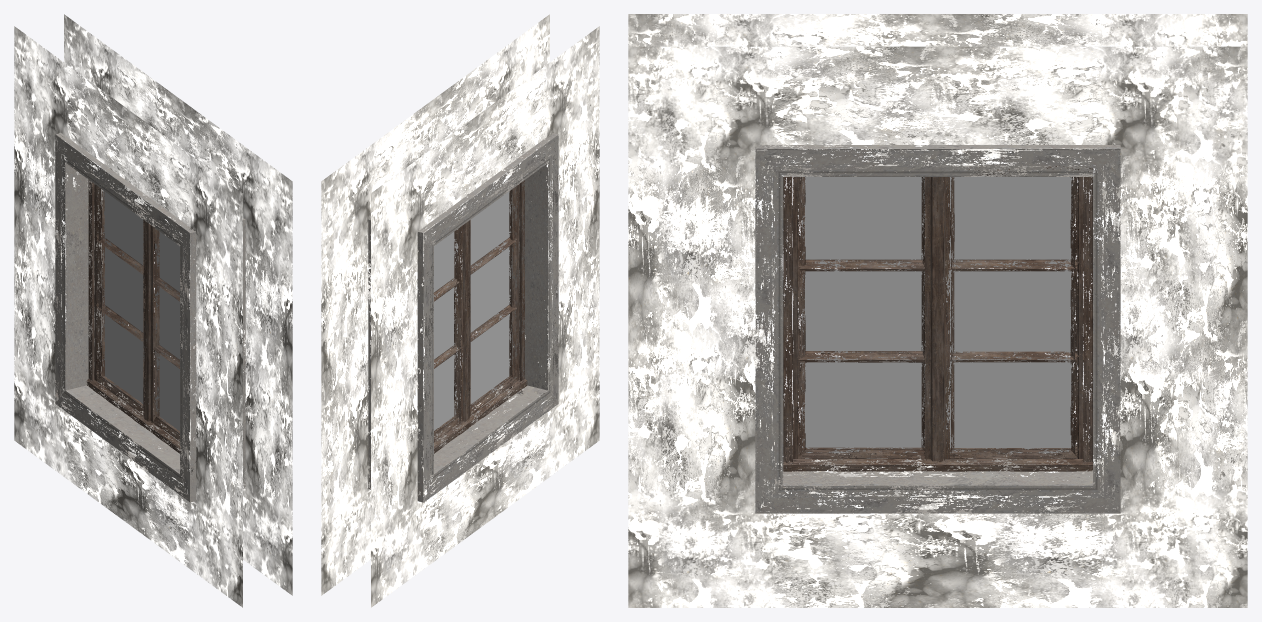
The model's file is SM_wall_A_window_4x4_01_01.fbx.
The picture shows the model from 3 angles, left to right: view 1: azimuth 30°, elevation 25°; view 2: azimuth 150°, elevation 25°; view 3: azimuth 270°, elevation 25°; orthographic projection. The views are drawn at different scales.
Visible parts, largest first — view 1: SM_wall_A_window_4x4_01_01_LOD0; view 2: SM_wall_A_window_4x4_01_01_LOD0; view 3: SM_wall_A_window_4x4_01_01_LOD0.
Boxes of the visible parts, x1,y1,x2,y2 form: SM_wall_A_window_4x4_01_01_LOD0: [14, 14, 292, 607]; SM_wall_A_window_4x4_01_01_LOD0: [321, 14, 599, 607]; SM_wall_A_window_4x4_01_01_LOD0: [628, 14, 1247, 607].
Size of the model in its own units: 62.17 by 400 by 400.
5 materials, 4 textured.
